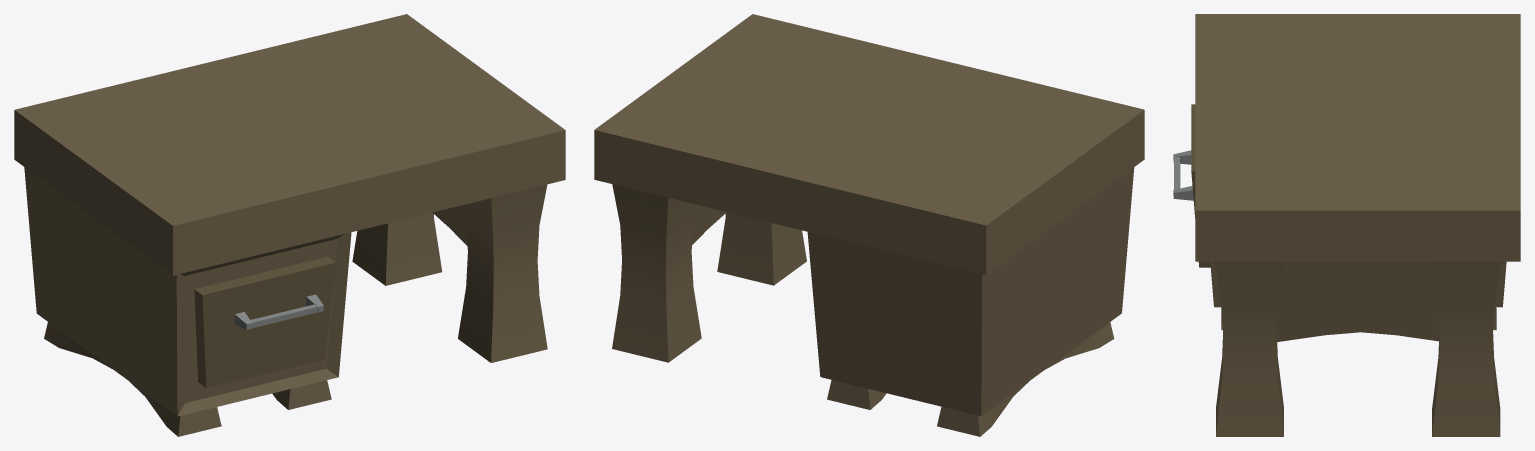
Rendered from DeskBasicNormal.glb.
The picture shows the model from 3 angles, left to right: view 1: azimuth 30°, elevation 25°; view 2: azimuth 150°, elevation 25°; view 3: azimuth 270°, elevation 25°; orthographic projection. The views are drawn at different scales.
Parts seen in each view (by area): view 1: table, cupboard, draw, legfront, legback, cuplegleft, cuplegright, handle, legconnect; view 2: table, cupboard, legback, legfront, cuplegleft, cuplegright, legconnect; view 3: table, legconnect, legback, legfront, cupboard, handle, draw.
Boxes of the visible parts, box(x1,y1,x2,y2) form: table: box(14, 14, 565, 275); cupboard: box(24, 167, 351, 416); draw: box(194, 256, 335, 387); legfront: box(458, 184, 547, 362); legback: box(352, 212, 442, 285); cuplegleft: box(44, 322, 221, 436); cuplegright: box(272, 380, 331, 409); handle: box(234, 294, 323, 329); legconnect: box(432, 205, 467, 245); table: box(594, 14, 1144, 275); cupboard: box(807, 167, 1134, 416); legback: box(612, 184, 701, 362); legfront: box(717, 212, 806, 285); cuplegleft: box(937, 322, 1114, 436); cuplegright: box(827, 380, 886, 409); legconnect: box(692, 204, 727, 244); table: box(1195, 14, 1520, 261); legconnect: box(1276, 261, 1439, 341); legback: box(1431, 261, 1500, 436); legfront: box(1215, 261, 1284, 436); cupboard: box(1210, 261, 1506, 307); handle: box(1173, 150, 1193, 200); draw: box(1191, 104, 1210, 267).
Bounding box in the file's own units: 70.77 × 38.69 × 52.86.
